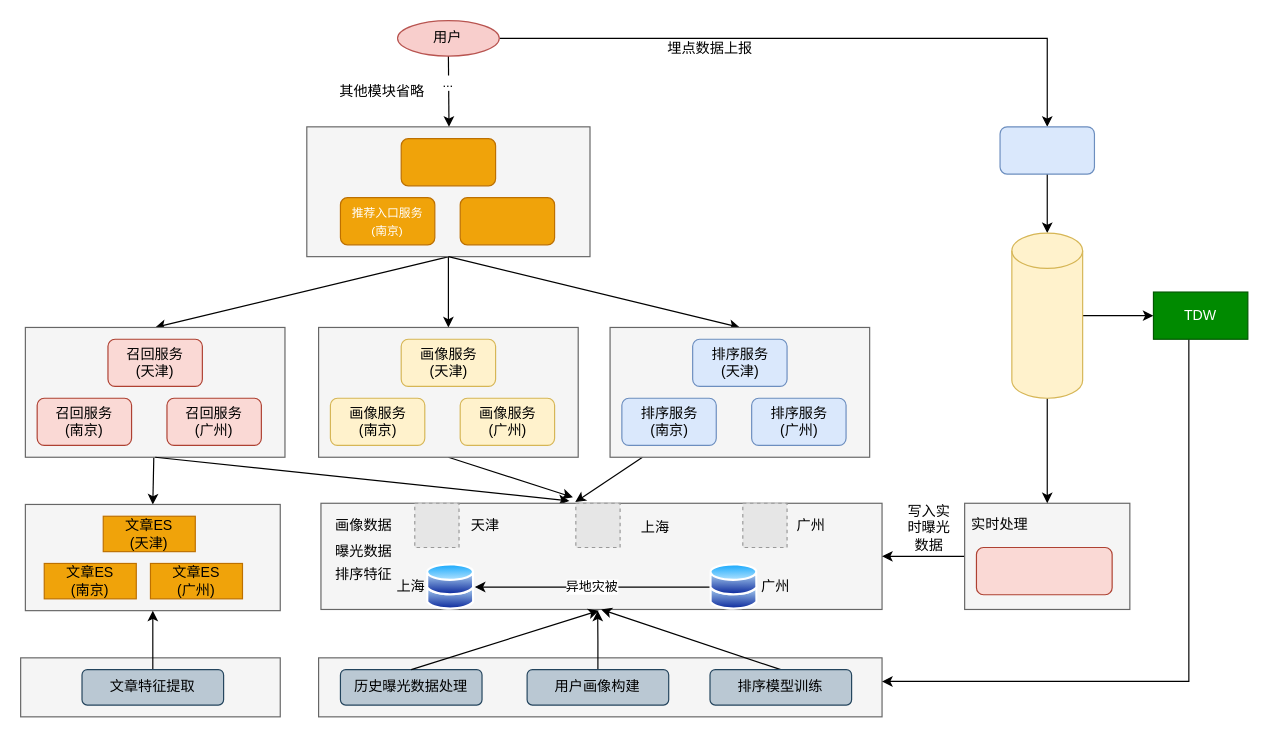
This 1269x737 diagram has some shape labels left out. Grey dashed boxes stand in for pictures. The centre of each missing label's shape, as x and y in pixels:
"埋点上报中心" belongs at point 1046,150.
"实时曝光数据收集" belongs at point 1043,570.
"推荐入口服务 (天津)" belongs at point 448,161.
"推荐入口服务 (广州)" belongs at point 507,220.
"消息队列" belongs at point 1047,315.
